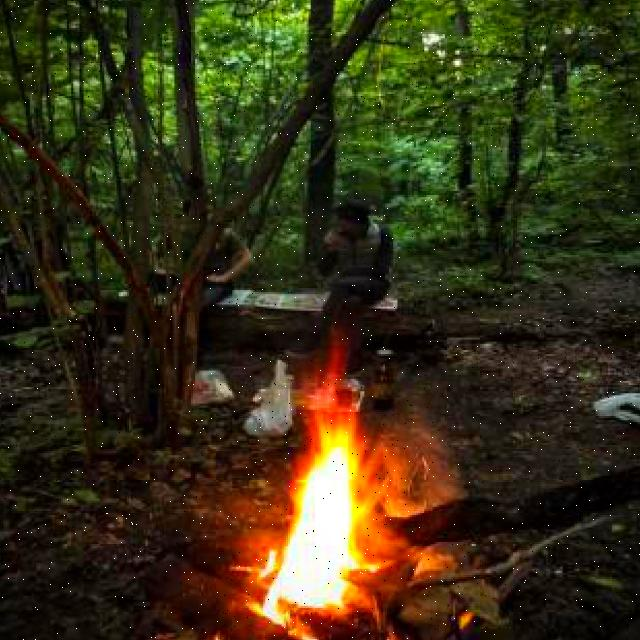fire: (251, 332, 375, 618)
smoke: (374, 383, 472, 511)
